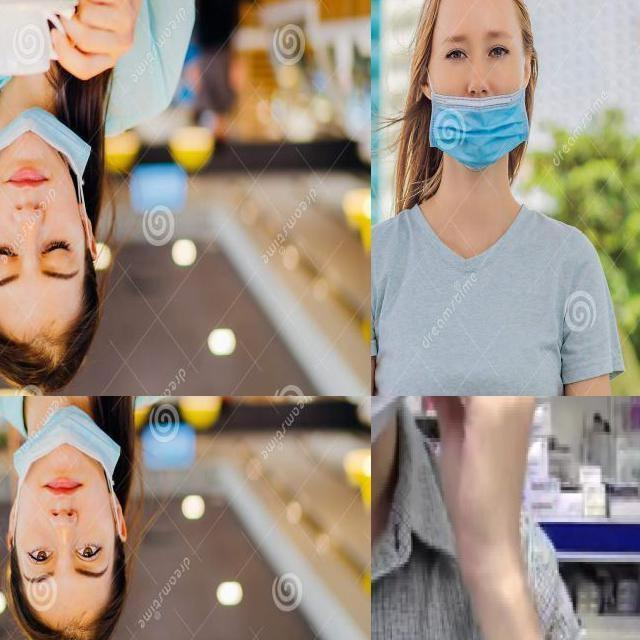hairnet: (0, 107, 84, 293), (19, 422, 112, 589), (426, 52, 534, 172)
no_gloves: (0, 547, 138, 639), (0, 280, 111, 391), (419, 0, 536, 58)
